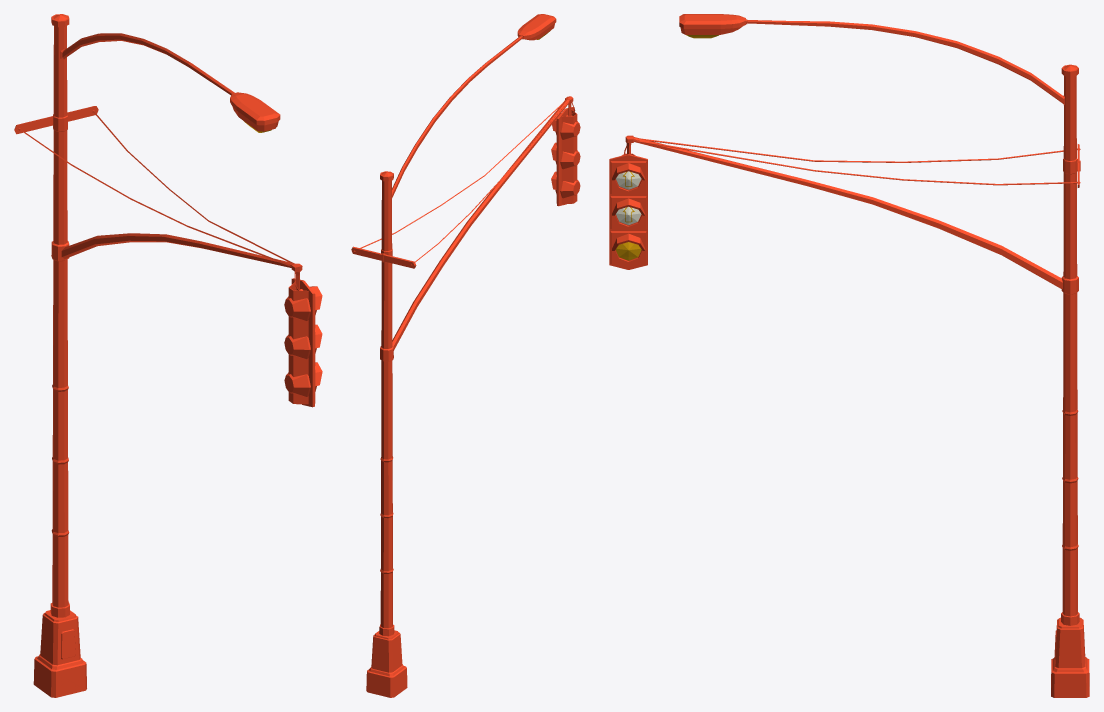
The model's file is SM_Lamp_Light_C_City.fbx.
The picture shows the model from 3 angles, left to right: view 1: azimuth 30°, elevation 25°; view 2: azimuth 150°, elevation 25°; view 3: azimuth 270°, elevation 25°; orthographic projection. The views are drawn at different scales.
Parts seen in each view (by area): view 1: SM_Lamp_Light_C_City; view 2: SM_Lamp_Light_C_City; view 3: SM_Lamp_Light_C_City.
Boxes of the visible parts, bbox=[...] form: SM_Lamp_Light_C_City: bbox=[14, 14, 322, 697]; SM_Lamp_Light_C_City: bbox=[351, 14, 580, 697]; SM_Lamp_Light_C_City: bbox=[609, 14, 1089, 697].
Size of the model in its own units: 0.8104 by 6.64 by 4.3.
